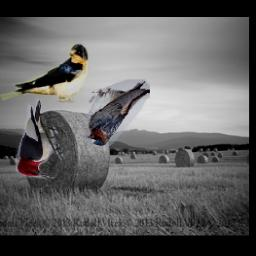Swallow: (0, 44, 89, 104), (88, 79, 150, 146)
Woodpecker: (17, 98, 64, 179)
